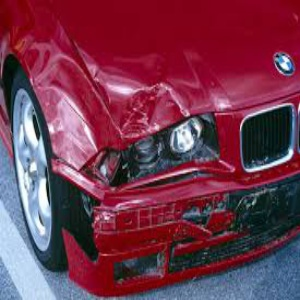bonnet: (93, 40, 191, 130)
bumper: (64, 190, 172, 297)
head_lights: (92, 122, 218, 183)
